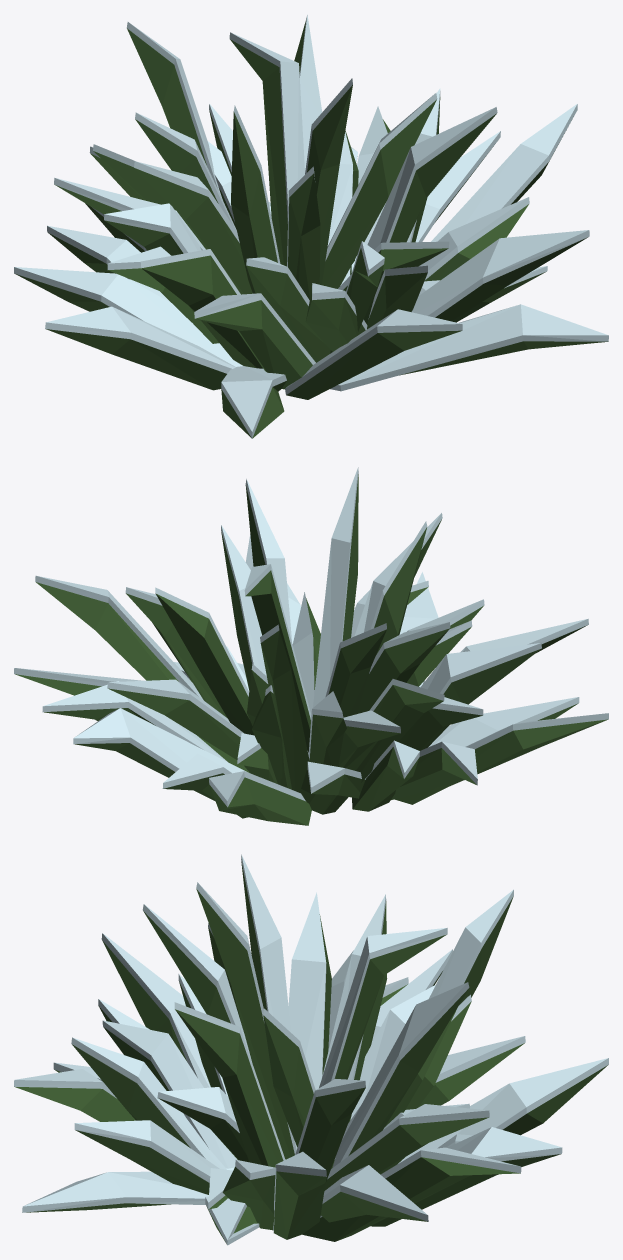
File: SM_Env_Grass_Large_02_Snow.fbx
The picture shows the model from 3 angles, top to bottom: view 1: azimuth 30°, elevation 25°; view 2: azimuth 150°, elevation 25°; view 3: azimuth 270°, elevation 25°; orthographic projection. The views are drawn at different scales.
Parts seen in each view (by area): view 1: SM_Env_Grass_Large_02_Snow; view 2: SM_Env_Grass_Large_02_Snow; view 3: SM_Env_Grass_Large_02_Snow.
Boxes of the visible parts, x1,y1,x2,y2 form: SM_Env_Grass_Large_02_Snow: (14,14,608,438); SM_Env_Grass_Large_02_Snow: (14,467,608,825); SM_Env_Grass_Large_02_Snow: (14,854,608,1245).
Size of the model in its own units: 271 by 139 by 238.
